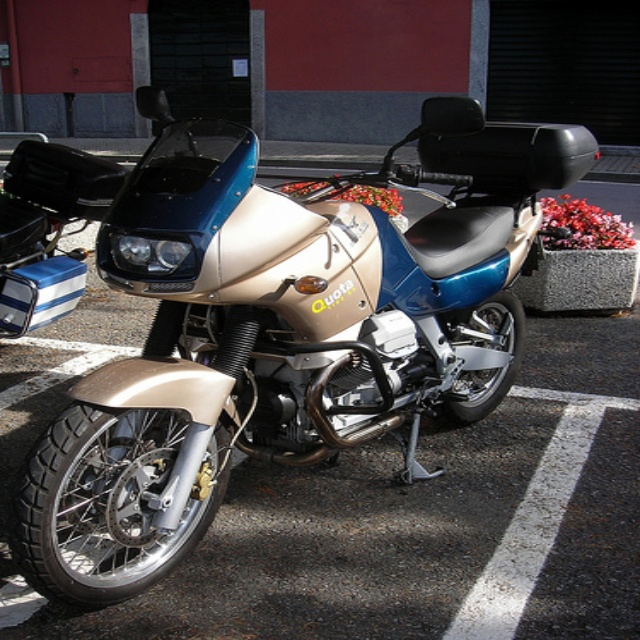Motorcycle: (7, 86, 546, 608)
